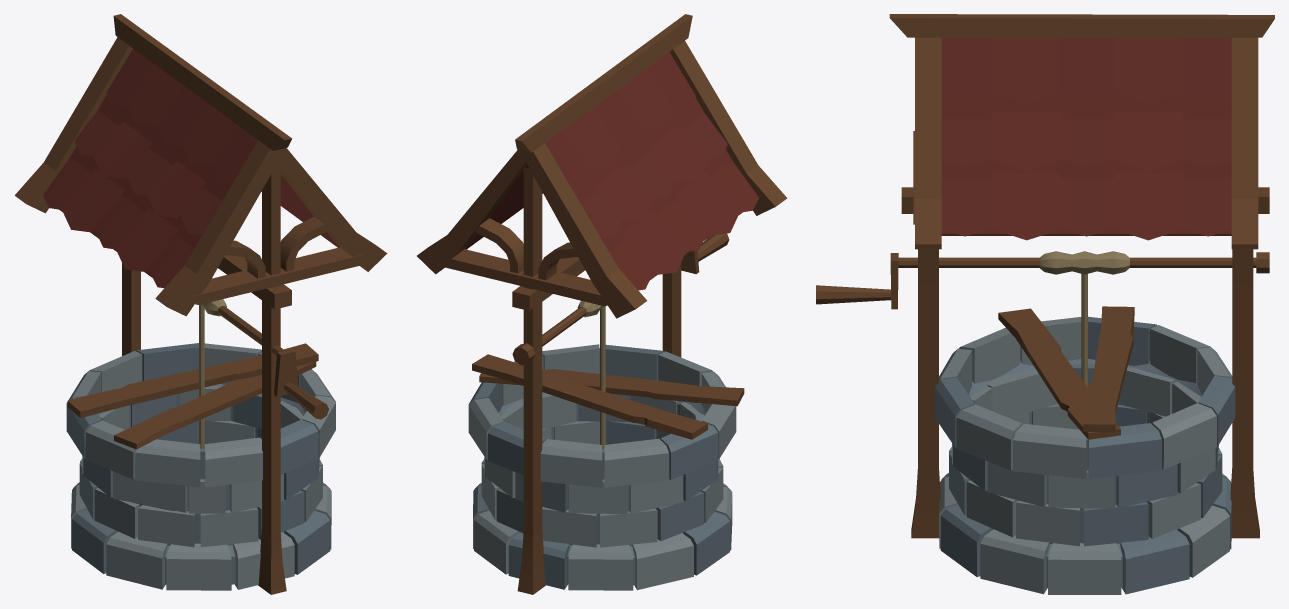
File: QlqncKYxXb.glb
The picture shows the model from 3 angles, left to right: view 1: azimuth 30°, elevation 25°; view 2: azimuth 150°, elevation 25°; view 3: azimuth 270°, elevation 25°; orthographic projection. The views are drawn at different scales.
Parts seen in each view (by area): view 1: Well; view 2: Well; view 3: Well.
Part boxes in pixels (x1,y1,x2,y2): Well: [15, 14, 387, 594]; Well: [417, 14, 787, 594]; Well: [816, 14, 1274, 594].
Size of the model in its own units: 0.6664 by 1.25 by 1.
Materials: 1 (1 with a texture image).
